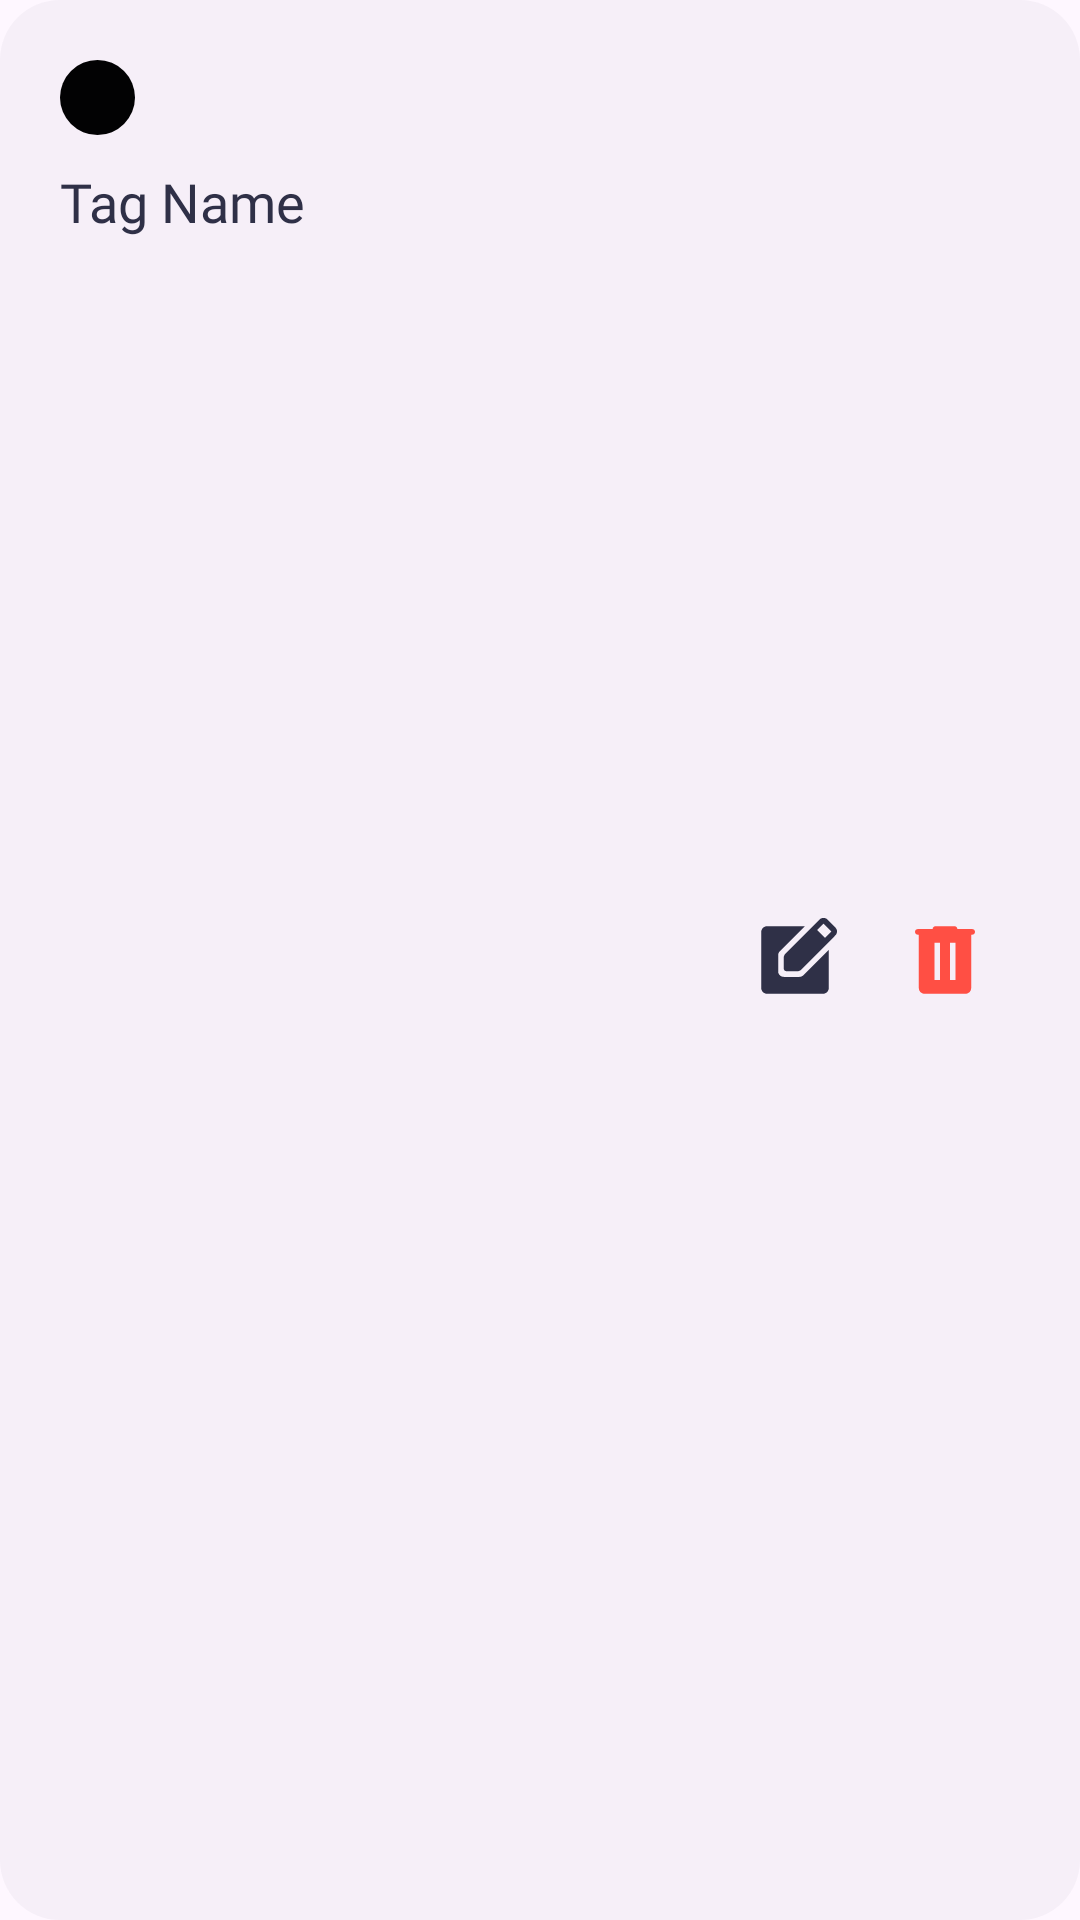

Locate icon controls on the screen. Image size 1080 × 1920, boxes as (x1, y1, x2, y2).
delete: (915, 926, 975, 994)
edit: (761, 918, 837, 994)
